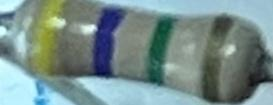Blue: (88, 6, 131, 75)
Green: (146, 17, 180, 86)
Side-Gold: (202, 15, 239, 100)
Yellow: (34, 2, 66, 74)
